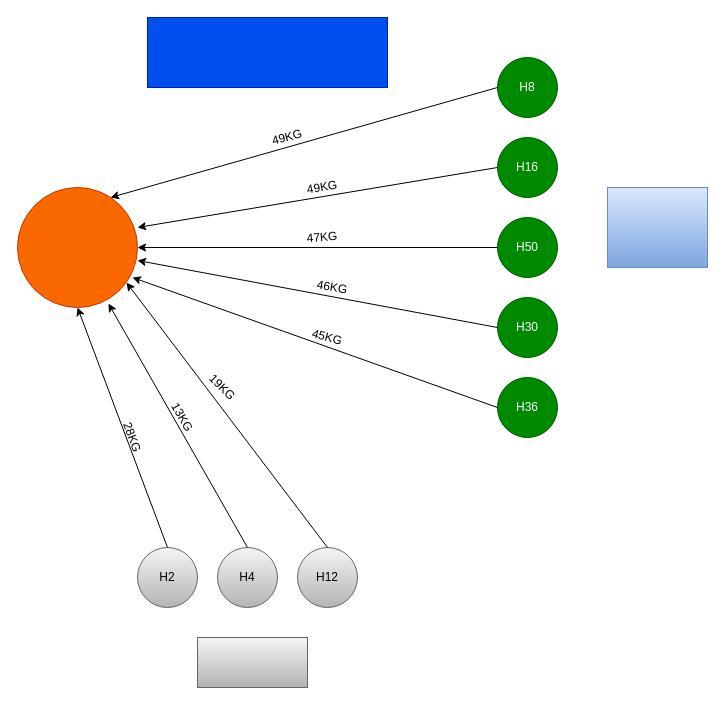
Some shapes in this 725 by 705 pixel diagram are drawn without their labels. Each missing label, with the box of its shape:
Household Waste Contribution Graph (DSA Visualization): (146, 16, 388, 88)
HOUSEHOLDS: (196, 636, 308, 688)
SYSTEM: (16, 186, 138, 308)
TOP 5 HOUSEHOLDS: (606, 186, 708, 268)
